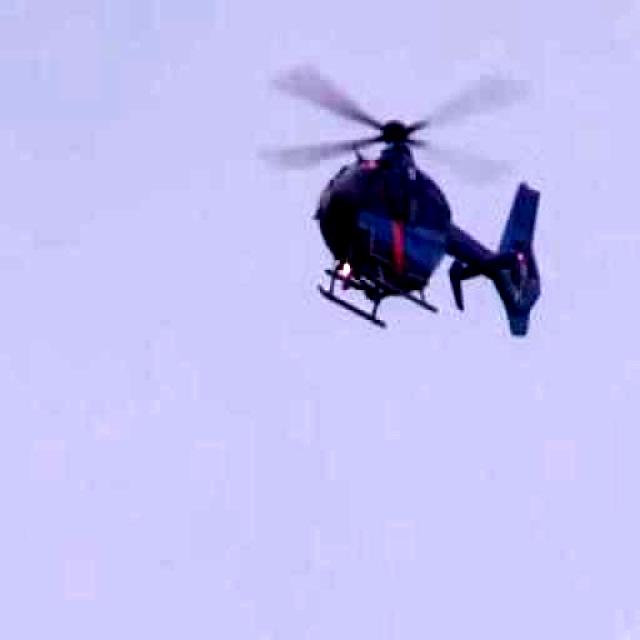drone: (222, 18, 610, 370)
